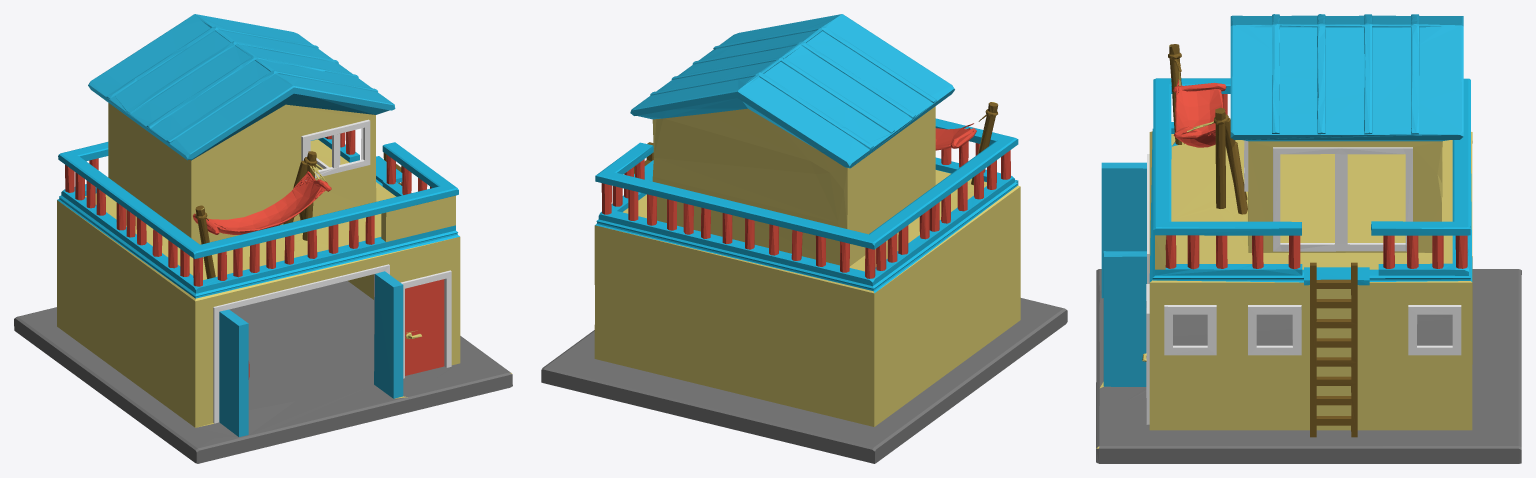
The model's file is house1.glb.
The picture shows the model from 3 angles, left to right: view 1: azimuth 30°, elevation 25°; view 2: azimuth 150°, elevation 25°; view 3: azimuth 270°, elevation 25°; orthographic projection. The views are drawn at different scales.
Visible parts, largest first — view 1: house1; view 2: house1; view 3: house1.
Boxes of the visible parts, x1,y1,x2,y2 form: house1: (14,14,512,463); house1: (541,14,1067,463); house1: (1096,14,1521,463).
Bounding box in the file's own units: 5 × 4.54 × 5.
